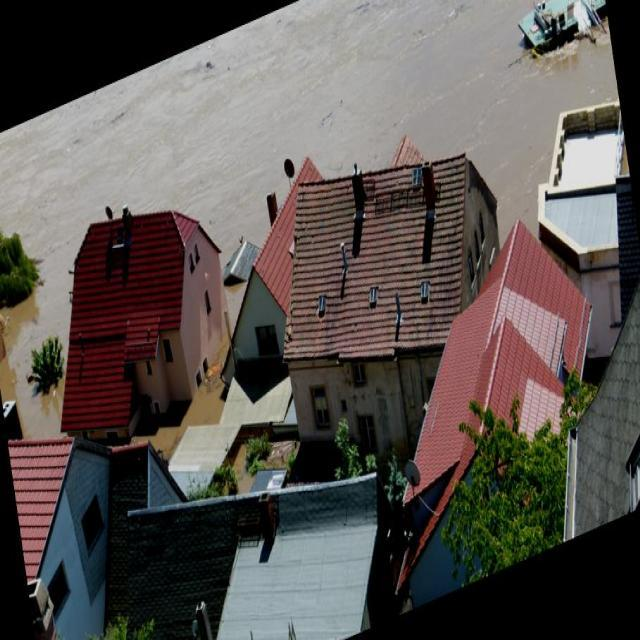flood: (0, 0, 617, 364)
